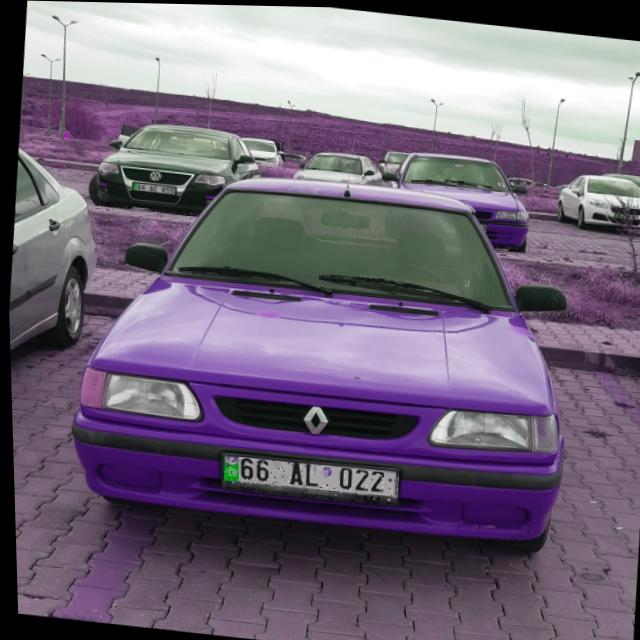license_plate: (219, 454, 396, 500)
